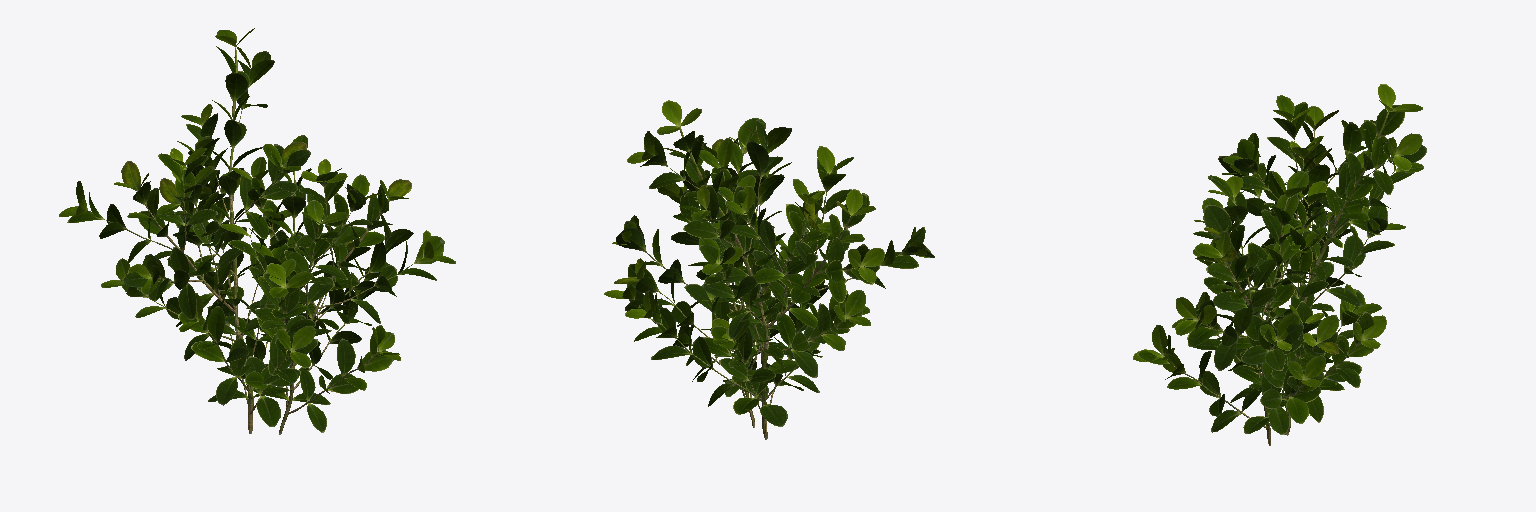
3 renders of one model, left to right at view 1: azimuth 30°, elevation 25°; view 2: azimuth 150°, elevation 25°; view 3: azimuth 270°, elevation 25°, orthographic.
Visible parts, largest first — view 1: newTreeSmall; view 2: newTreeSmall; view 3: newTreeSmall.
Part boxes in pixels (left/top/right/bottom): newTreeSmall: left=59, top=28, right=455, bottom=434; newTreeSmall: left=604, top=100, right=934, bottom=439; newTreeSmall: left=1133, top=84, right=1426, bottom=445.
Bounding box in the file's own units: 0.1563 × 0.1771 × 0.1315.
Materials: 1 (1 with a texture image).